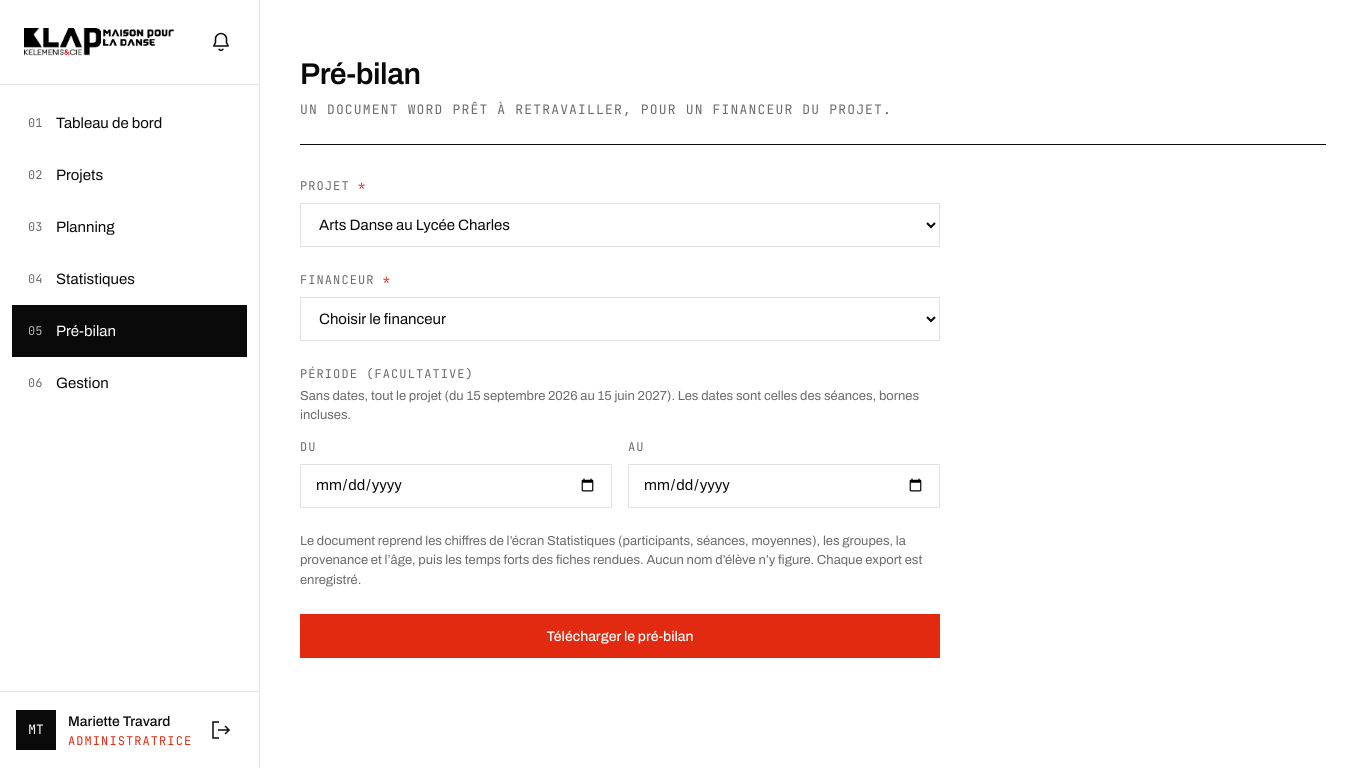
Test: Pré-bilan › n’affiche pas le résultat d’un ancien projet sous le nouveau
The width and height of the screenshot is (1366, 768).
Step 1. Select "DRAC" in the dropdown labelled "Financeur *" → [620, 318], box [300,296,940,340]
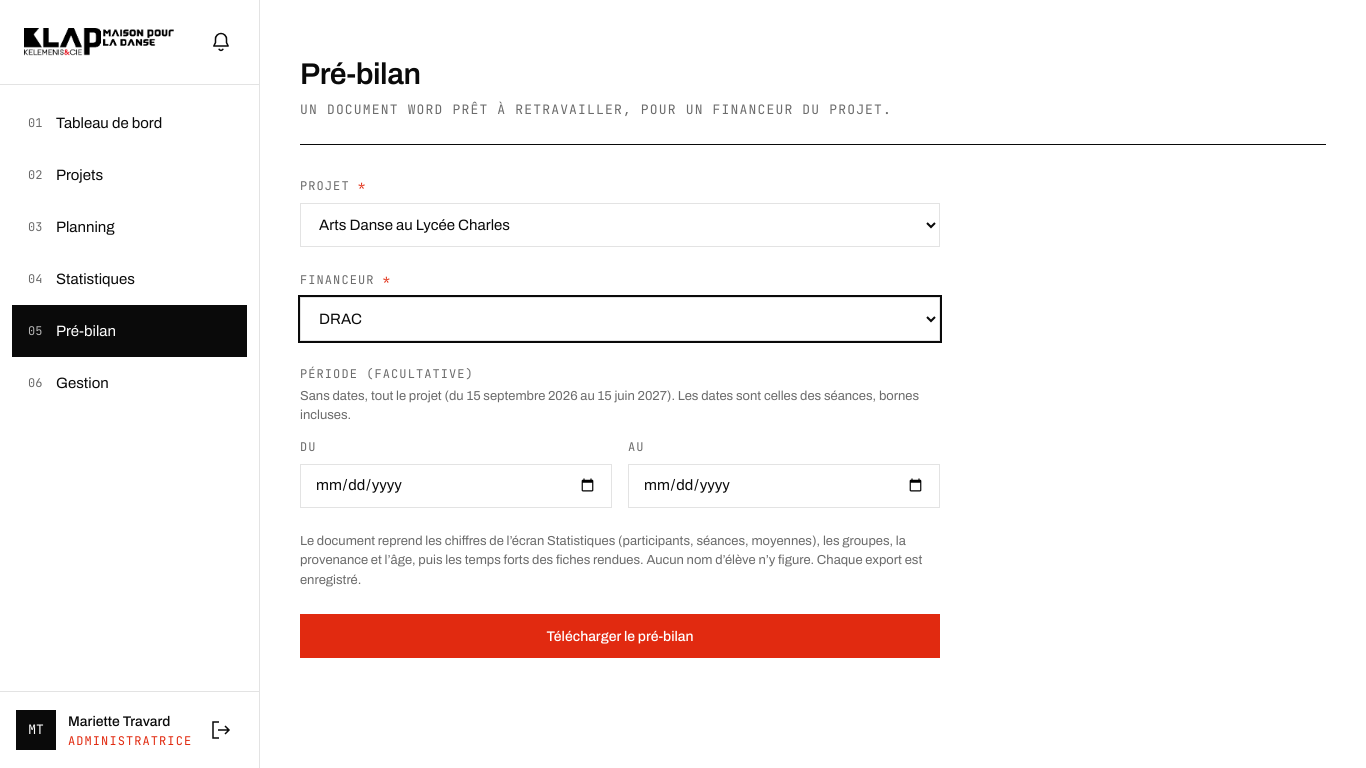
Step 2. Click the button "Télécharger le pré-bilan" → [620, 636], box [300,614,940,658]
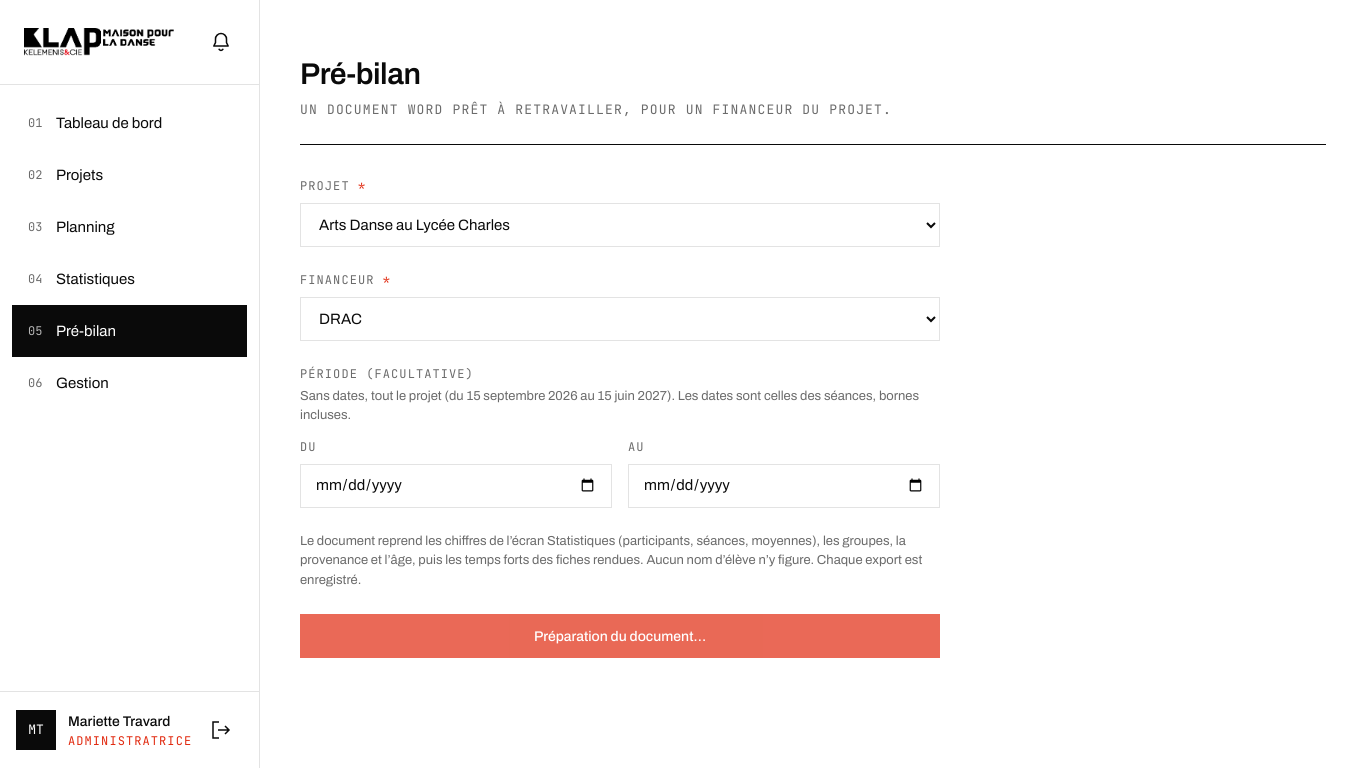
Step 3. Select "AIMER (archivé)" in the dropdown labelled "Projet *" → [620, 224], box [300,202,940,246]
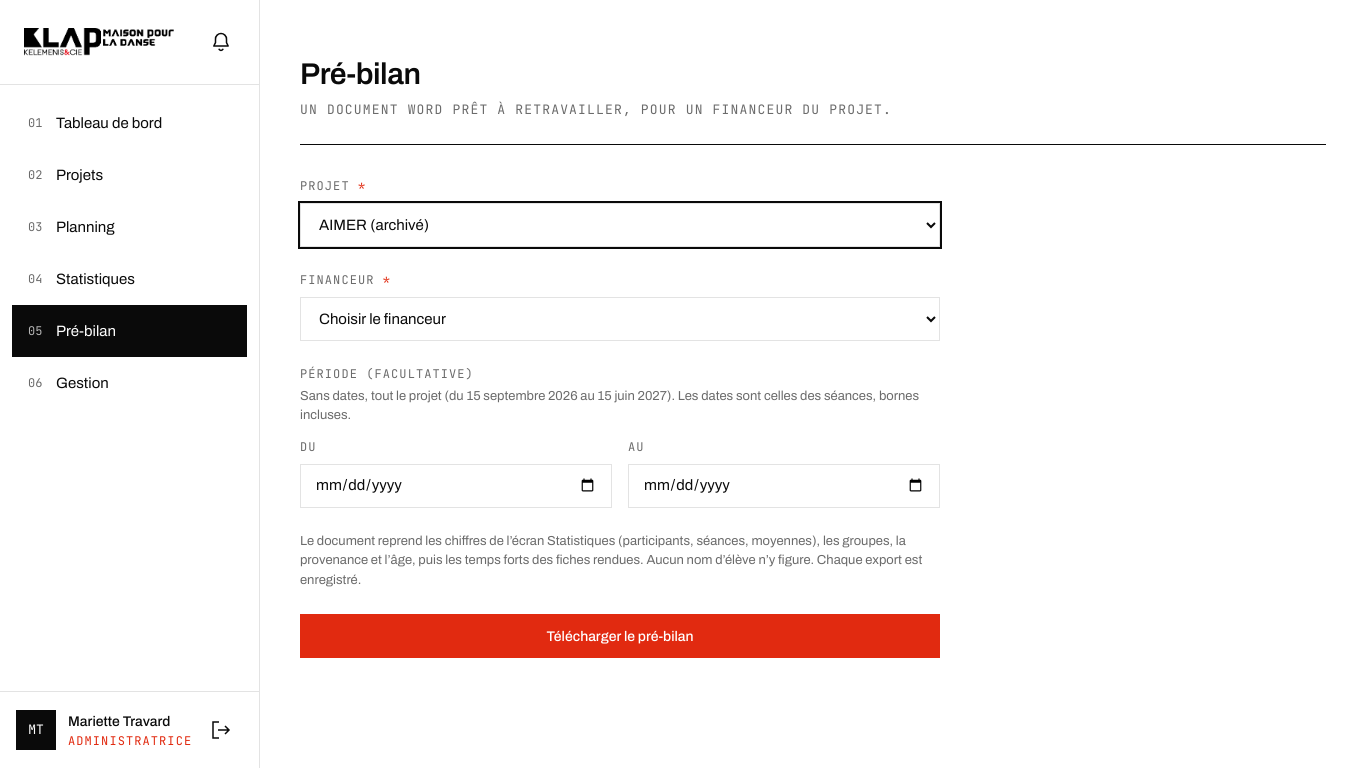
Expected: the button "Télécharger le pré-bilan" is enabled, [300,614,940,658]
